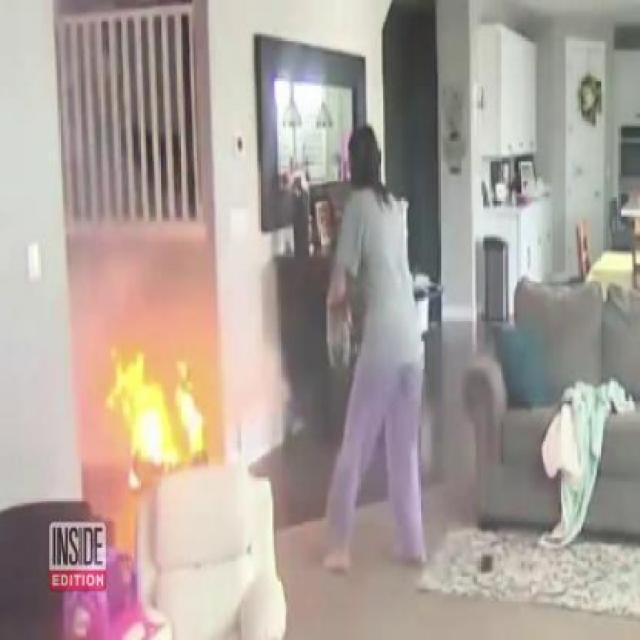fire: (124, 348, 224, 480)
smoke: (76, 170, 202, 324), (235, 314, 292, 428), (56, 378, 112, 476)
